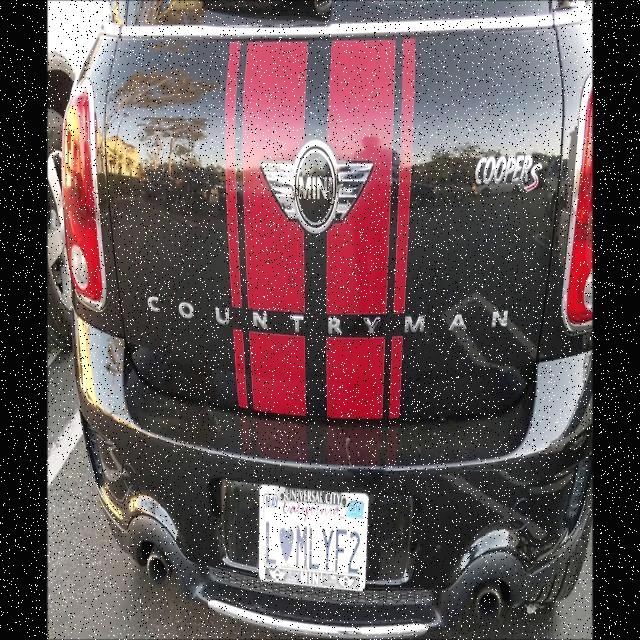licenseplate: (256, 483, 371, 594)
